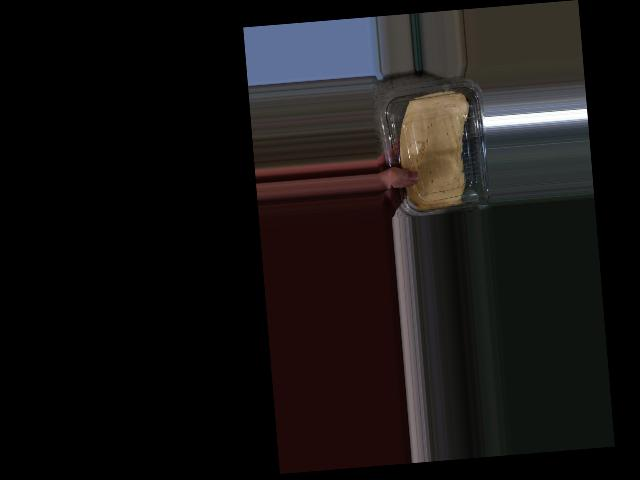cheese: (388, 75, 492, 218)
